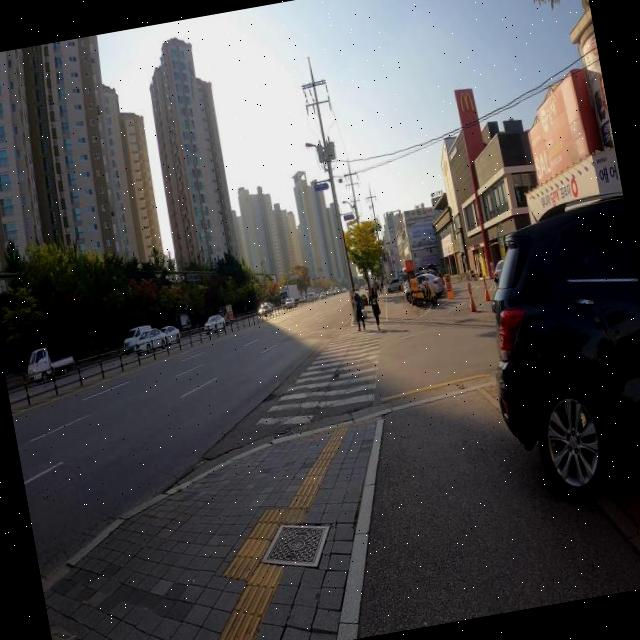crosswalk: (254, 323, 383, 424)
